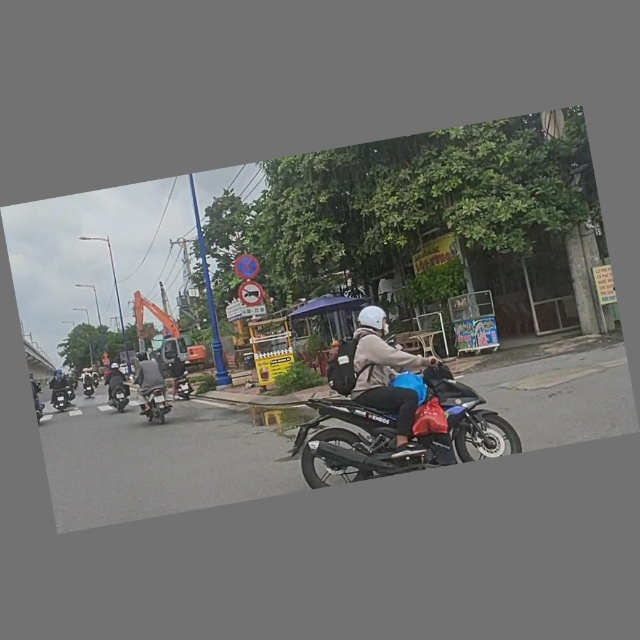B.8a: (236, 279, 268, 309)
P.130: (232, 252, 263, 283)
